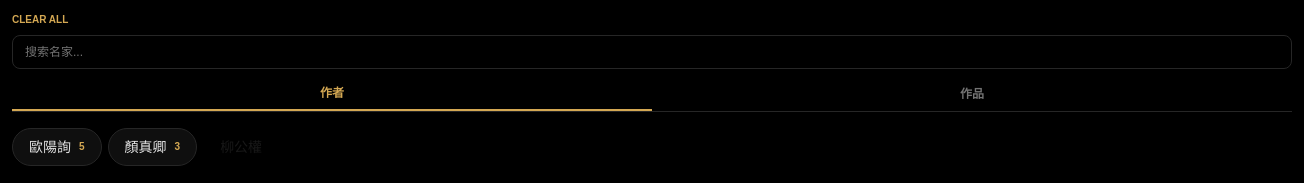
Test: JiziPicker › switches to the works tab and shows work chips
The image size is (1304, 183).
expect the button "歐陽詢 5" is shown: met, box [12,128,102,166]
Click the button "作品" at (972, 98), box [652,85,1292,111]
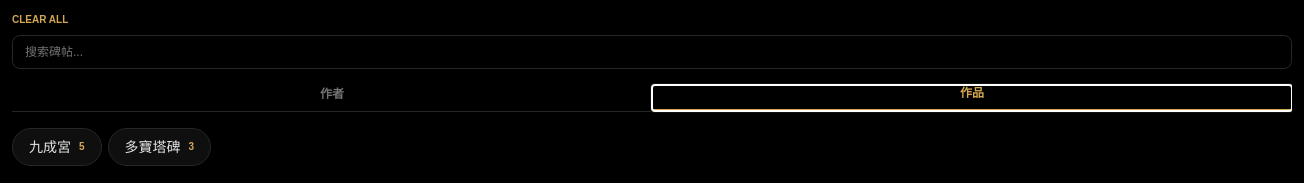
expect the button "九成宮 5" is shown: met, box [12,128,102,166]
expect the button "多寶塔碑 3" is shown: met, box [108,128,211,166]
